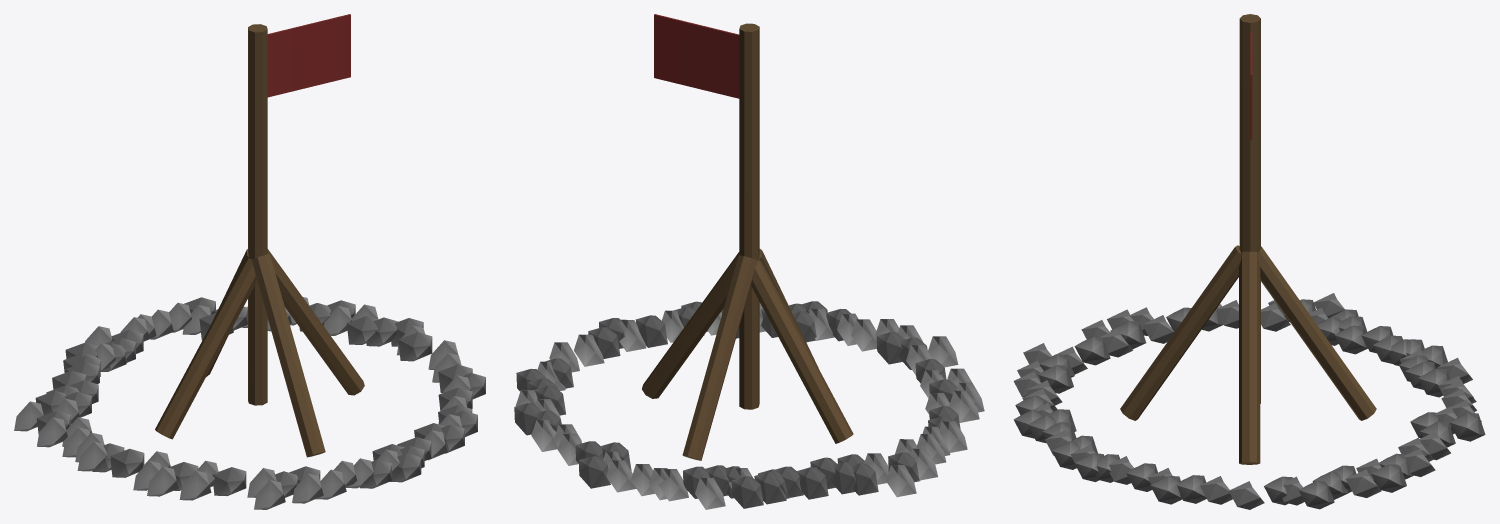
The model's file is TestFirePlace.fbx.
3 views of the same model, side by side, from view 1: azimuth 30°, elevation 25°; view 2: azimuth 150°, elevation 25°; view 3: azimuth 270°, elevation 25° (orthographic). The views are drawn at different scales.
Visible parts, largest first — view 1: Pilar; view 2: Pilar; view 3: Pilar.
Boxes of the visible parts, <box> form: Pilar: <box>14,14,485,509</box>; Pilar: <box>514,14,984,509</box>; Pilar: <box>1013,14,1485,509</box>.
Bounding box in the file's own units: 2.26 × 2.08 × 2.22.
